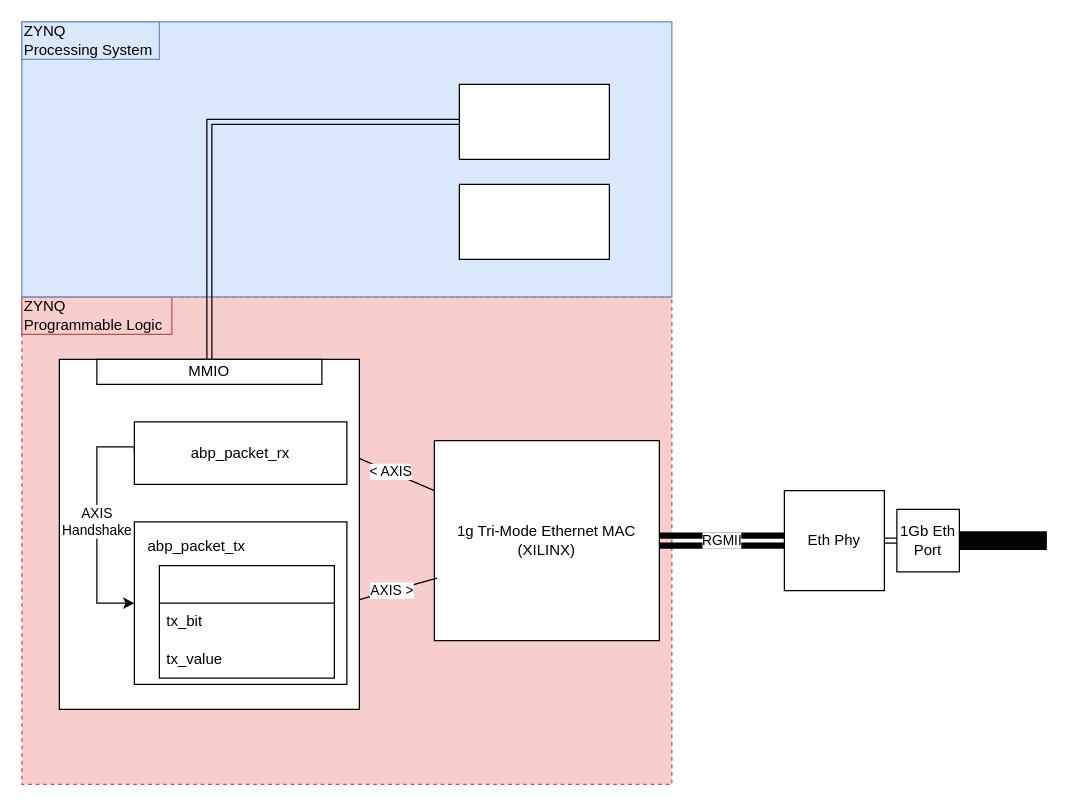
Image size: 1079x806. Some labels were removed from this diagram. The box of each missing label's shape, as (x1, y1, x2, y2) in pixels:
Python Websocket (PL to PS communication): (458, 83, 609, 159)
Registers: (158, 564, 334, 678)
XVC Webserver (Remote Debugging/Flash): (458, 183, 609, 259)
